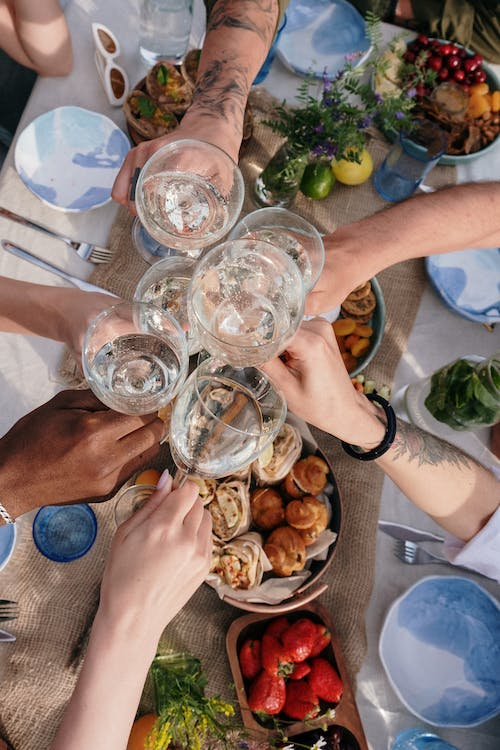alcohol: (113, 353, 290, 529), (129, 136, 247, 270), (187, 237, 307, 368), (80, 300, 191, 419), (225, 205, 326, 302), (130, 254, 202, 356)
